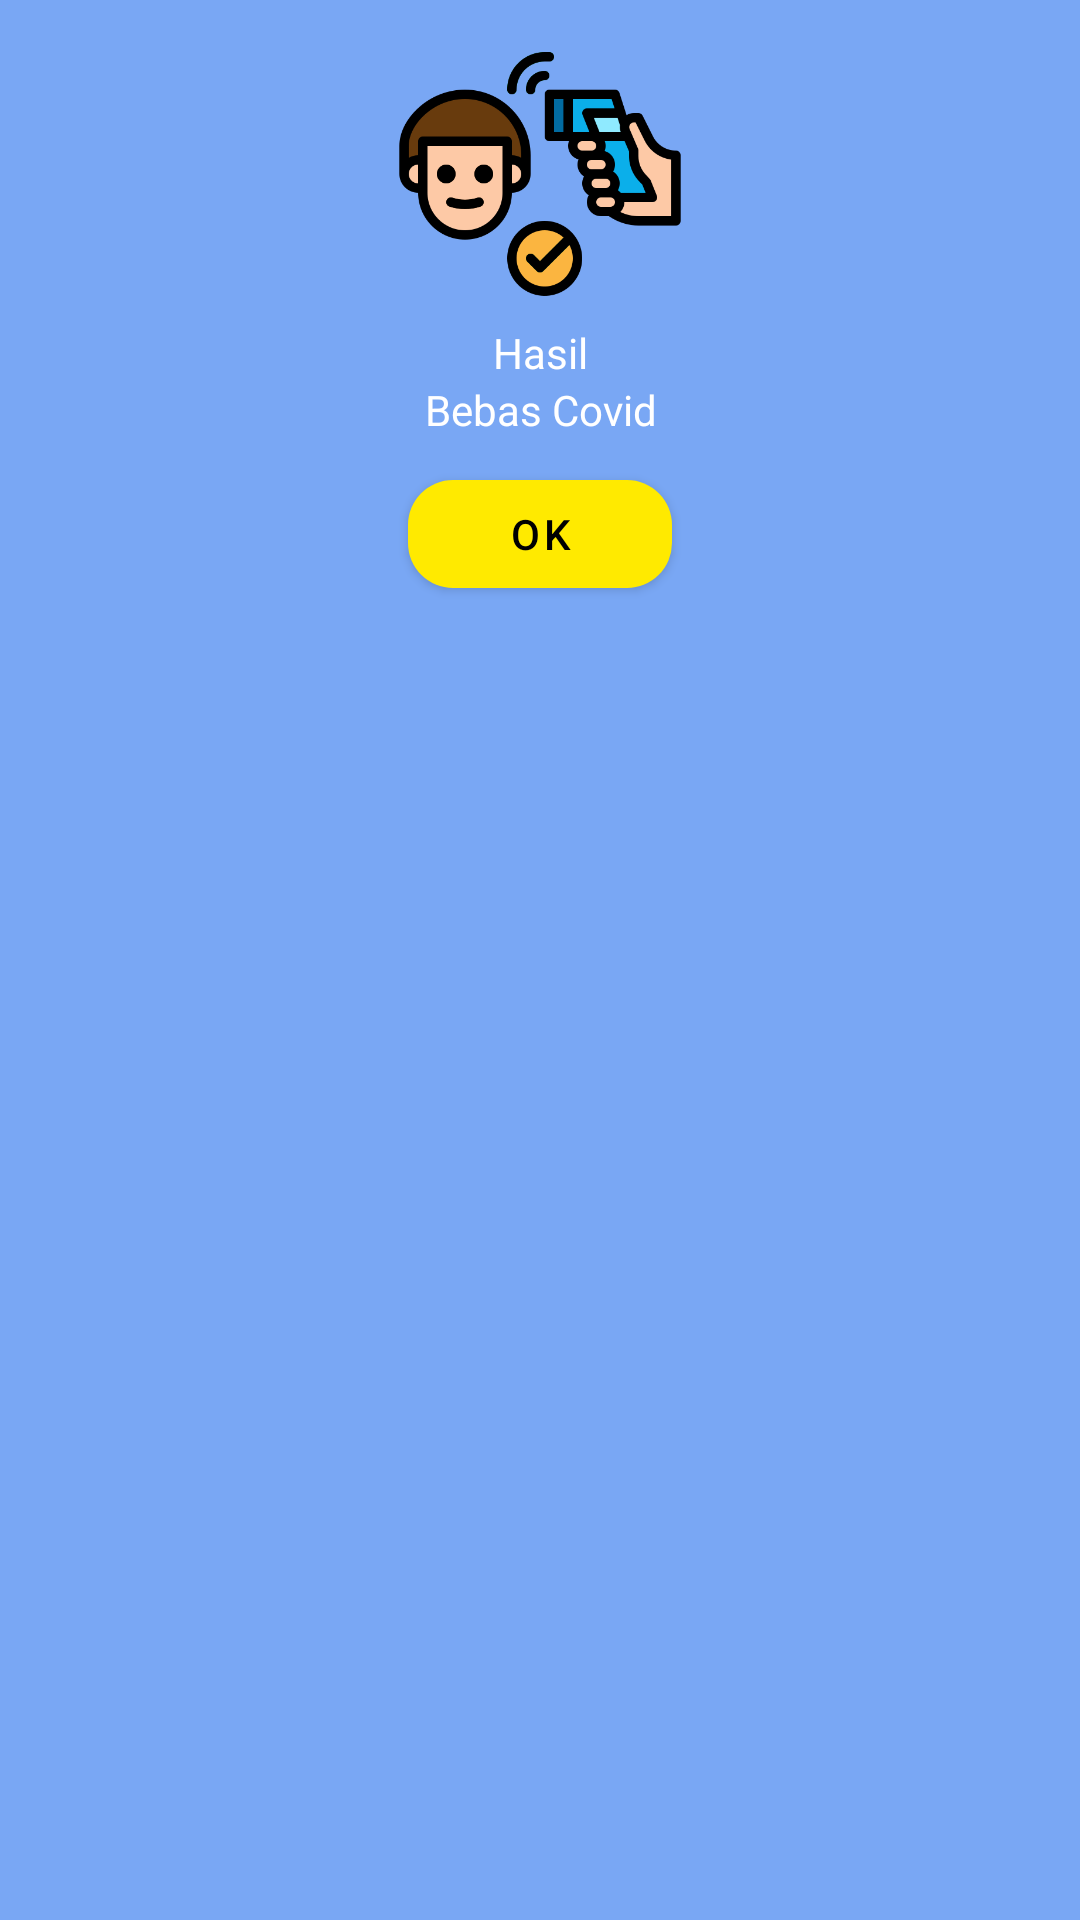

Icon click points for this 1080px x 1920px phone screenshot, format [x,y]:
check: [540,174]
